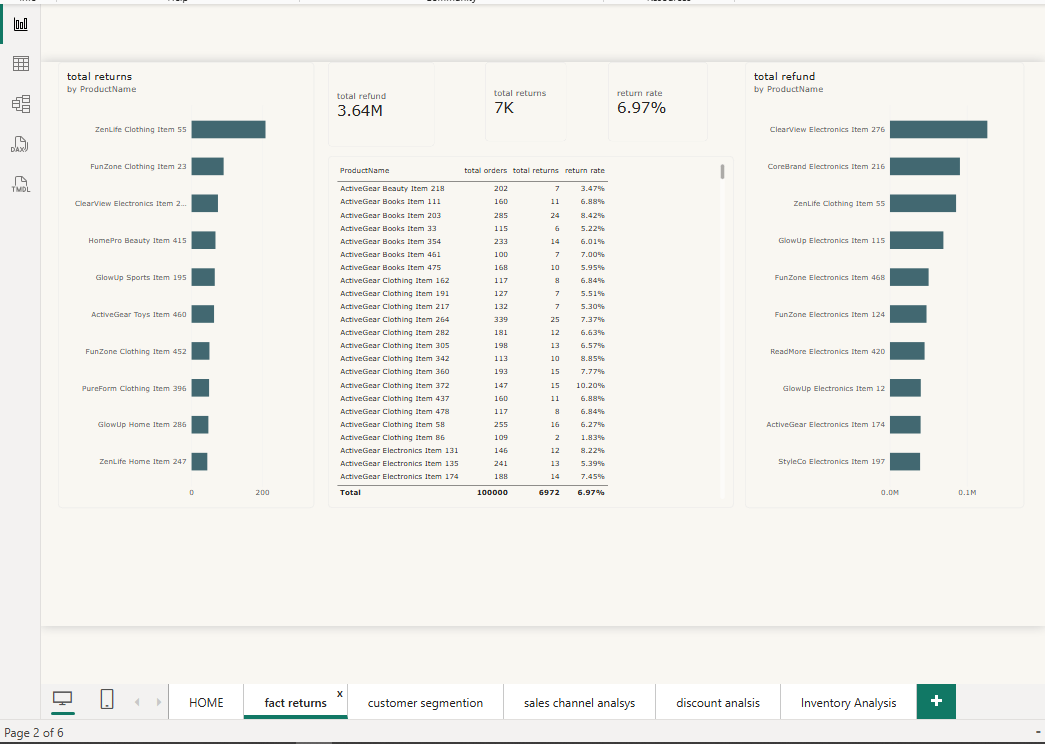

The page's visual inventory and layout, read from the dashboard file:
{"tool":"powerbi","page":{"name":"fact returns ","canvas":[1920,1080],"ordinal":1},"visuals":[{"type":"cardVisual","fields":{"Data":["dw FactReturns.total returns"]},"box":[849.1,0,156.8,153],"z":0},{"type":"cardVisual","fields":{"Data":["dw FactReturns.total refund"]},"box":[548.8,0,204.6,162.5],"z":1},{"type":"cardVisual","fields":{"Data":["dw FactReturns.return rate"]},"box":[1084.3,0,191.2,153],"z":2},{"type":"clusteredBarChart","fields":{"Category":["dw dimproduct.ProductName"],"Y":["dw FactReturns.total returns"]},"box":[32.5,0,489.6,852.9],"z":3},{"type":"clusteredBarChart","fields":{"Category":["dw dimproduct.ProductName"],"Y":["dw FactReturns.total refund"]},"box":[1346.3,0,533.5,852.9],"z":4},{"type":"tableEx","fields":{"Values":["dw dimproduct.ProductName","dw FactReturns.total orders","dw FactReturns.total returns","dw FactReturns.return rate"]},"box":[548.9,179.1,776.3,672.9],"z":5}]}

Visuals, with their boxes on the page's 1920x1080 design canvas (x1, y1, x2, y2). These are canvas units, not pixel positions in the 1045x744 screenshot, which may show the page scaled, cropped or inside an application window:
cardVisual - dw FactReturns.total returns: [849,0,1006,153]
cardVisual - dw FactReturns.total refund: [549,0,753,162]
cardVisual - dw FactReturns.return rate: [1084,0,1276,153]
clusteredBarChart - dw dimproduct.ProductName x dw FactReturns.total returns: [32,0,522,853]
clusteredBarChart - dw dimproduct.ProductName x dw FactReturns.total refund: [1346,0,1880,853]
tableEx - dw dimproduct.ProductName x dw FactReturns.total orders: [549,179,1325,852]
